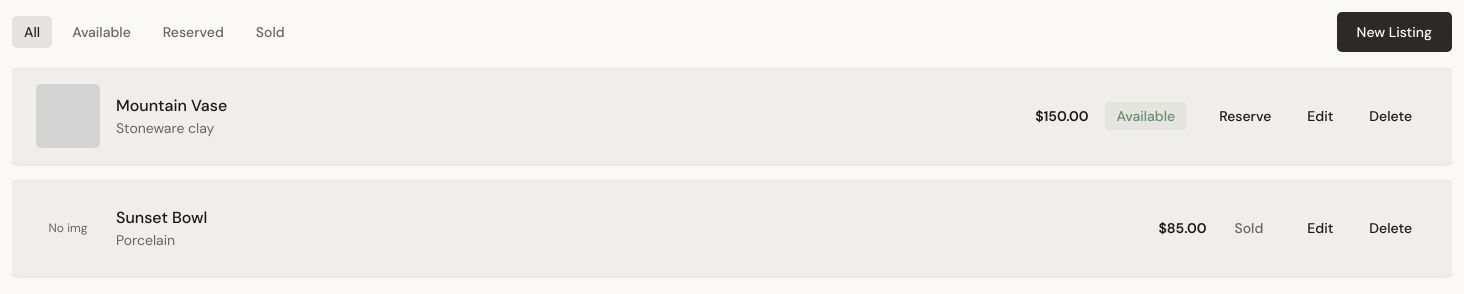
ListingsTable › should remove deleted listing from the list
expect the text "Mountain Vase" is shown: met, box [116, 95, 227, 116]
// Delete first listing
What coordinates should you click on to do the following:
click the button with test id "listing-delete-button"
I would click on:
 (1391, 116)
Its box is [1353, 98, 1428, 134].
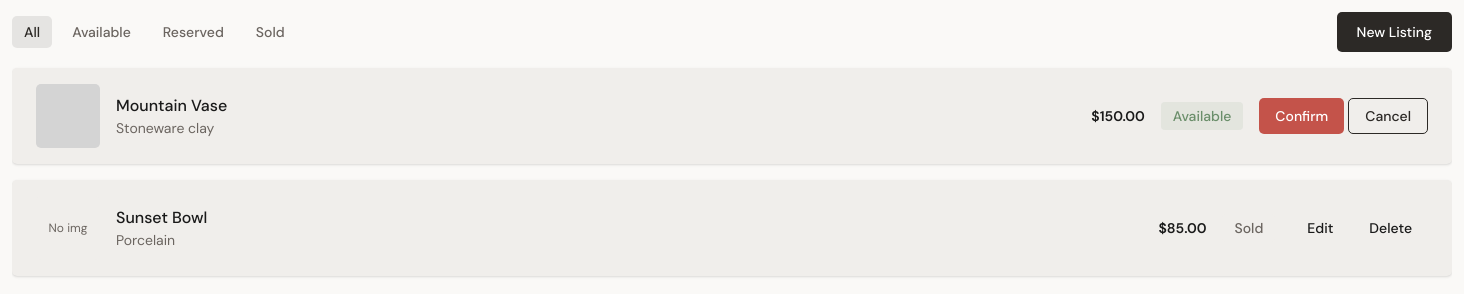
What coordinates should you click on to do the following:
click the button with test id "listing-delete-confirm"
I would click on:
 (1302, 116)
Its box is [1259, 98, 1344, 134].
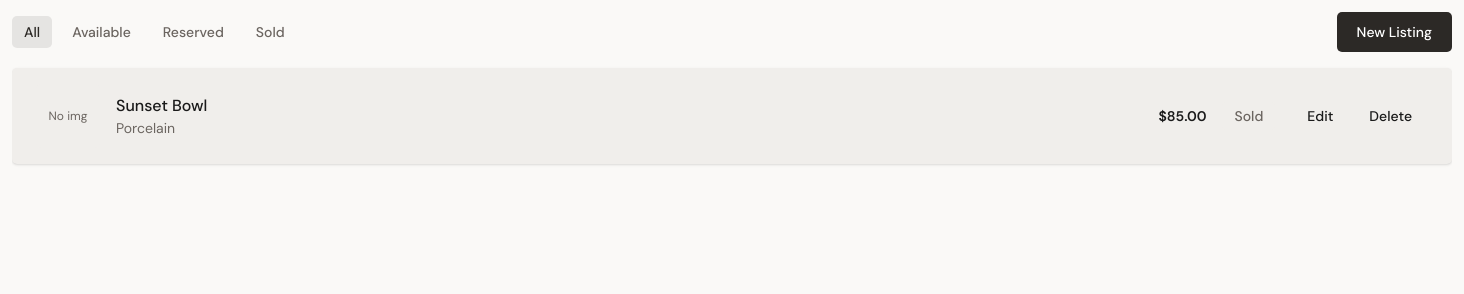
expect the text "Sunset Bowl" is shown: met, box [116, 95, 207, 116]
expect the text "Mountain Vase" is gone: met
